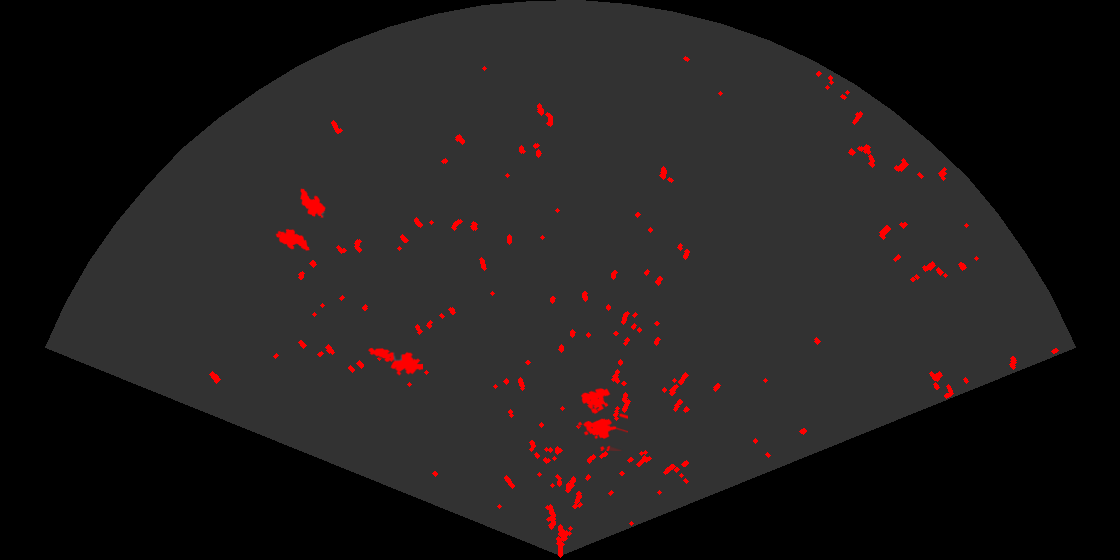AUV: (274, 227, 312, 253), (299, 187, 327, 220)
cage: (577, 386, 628, 451)
frogman: (367, 346, 423, 377)
